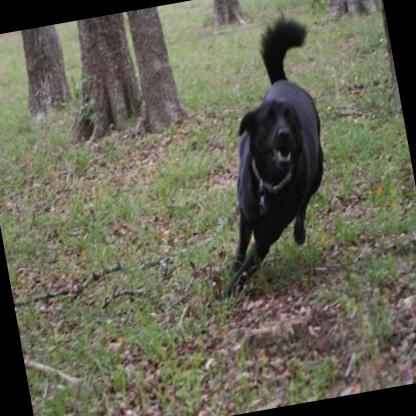schipperke: (174, 7, 353, 304)
